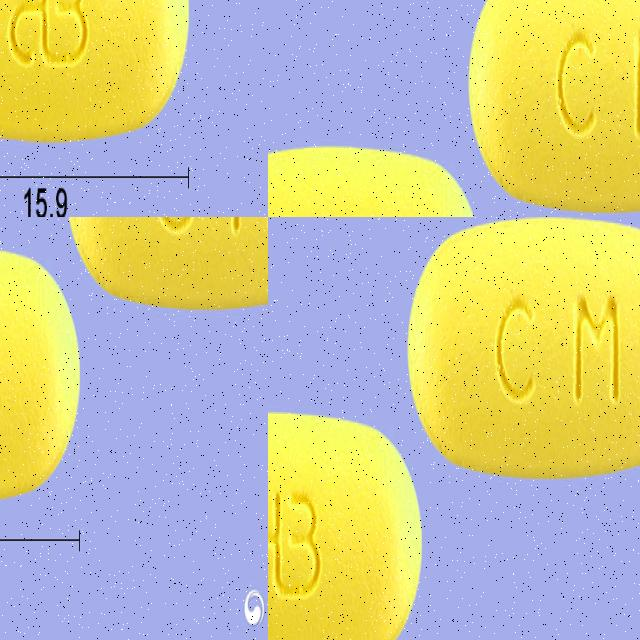Ceprion Cap: (0, 0, 239, 147)
Claridon: (405, 217, 640, 487), (268, 402, 424, 640)
Descovy: (471, 0, 640, 203)
Doxic: (79, 217, 268, 510)
